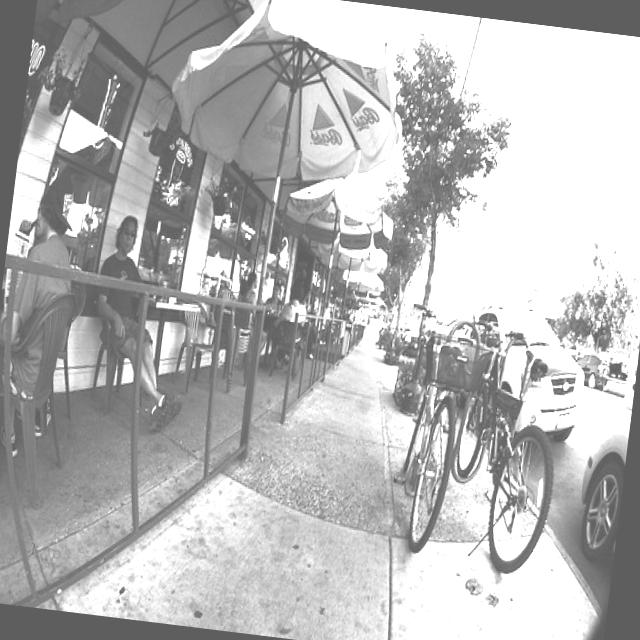Vehicle: (460, 301, 596, 443), (573, 333, 640, 570), (574, 350, 610, 391), (599, 344, 632, 382), (398, 320, 420, 350)
